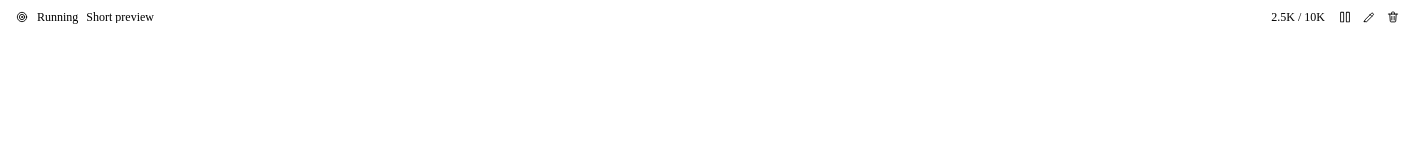
Goal objective preview › loads the full managed objective instead of presenting the stored preview as complete
Step 1. Hover over the text "Short preview" → [120, 17], box [86,10,154,24]
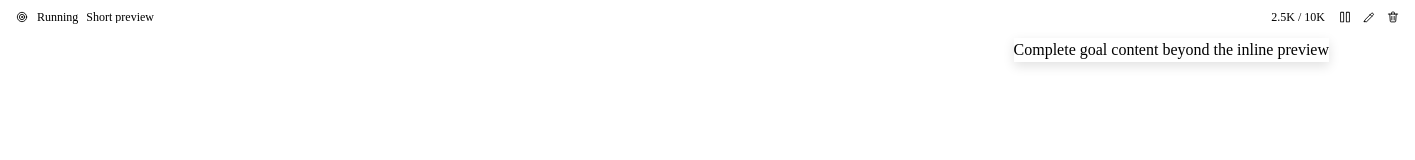
Result: the text "Complete goal content beyond the inline preview" is shown at [1014,41,1329,58]
